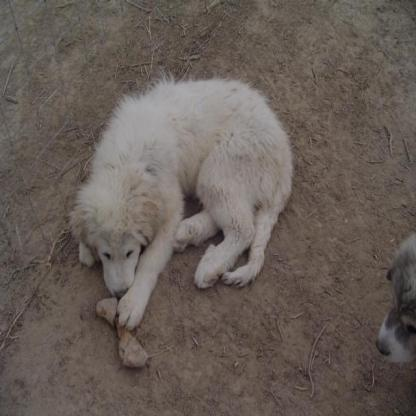Great_Pyrenees: (68, 73, 292, 329)
